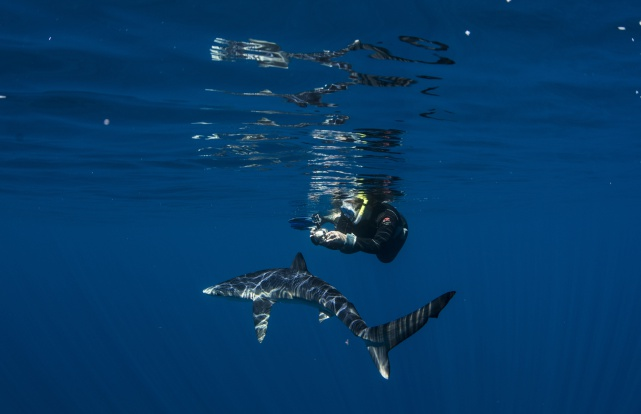Azul: (178, 245, 459, 393)
